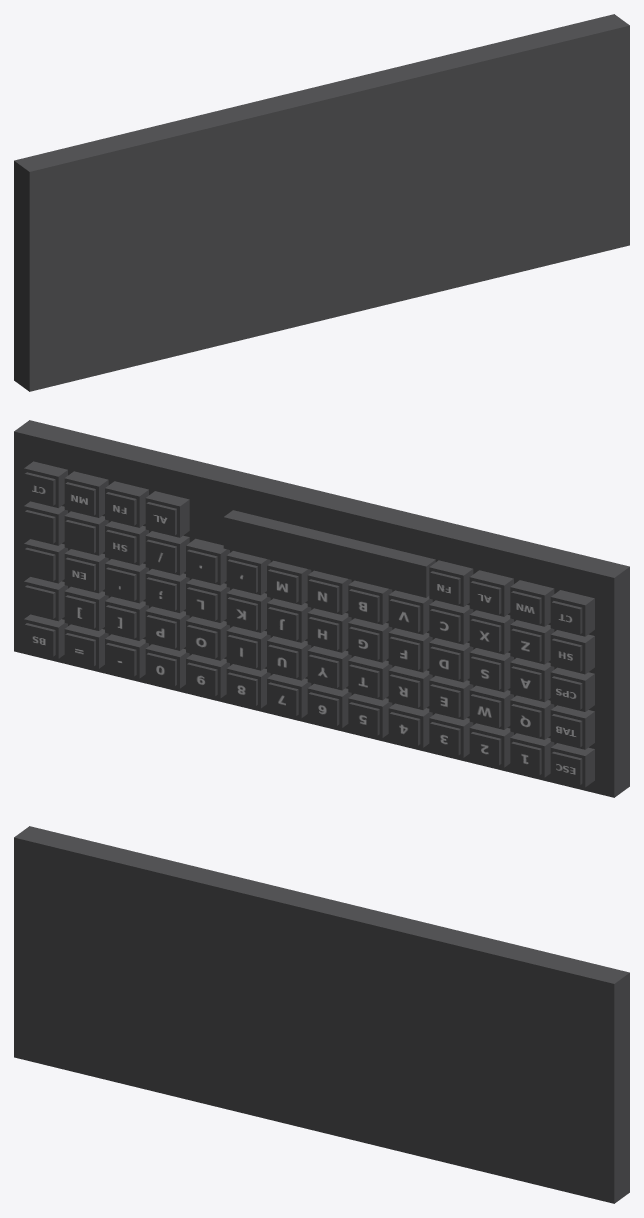
File: RealKeyboard.fbx
3 renders of one model, top to bottom at view 1: azimuth 30°, elevation 25°; view 2: azimuth 150°, elevation 25°; view 3: azimuth 330°, elevation 25°, orthographic.
Parts seen in each view (by area): view 1: RealKeyboard; view 2: RealKeyboard; view 3: RealKeyboard.
Part boxes in pixels (x1,y1,x2,y2): RealKeyboard: (14,14,629,391); RealKeyboard: (14,420,629,797); RealKeyboard: (14,826,629,1203).
Size of the model in its own units: 40 by 14 by 3.15.
Materials: 1 (1 with a texture image).
